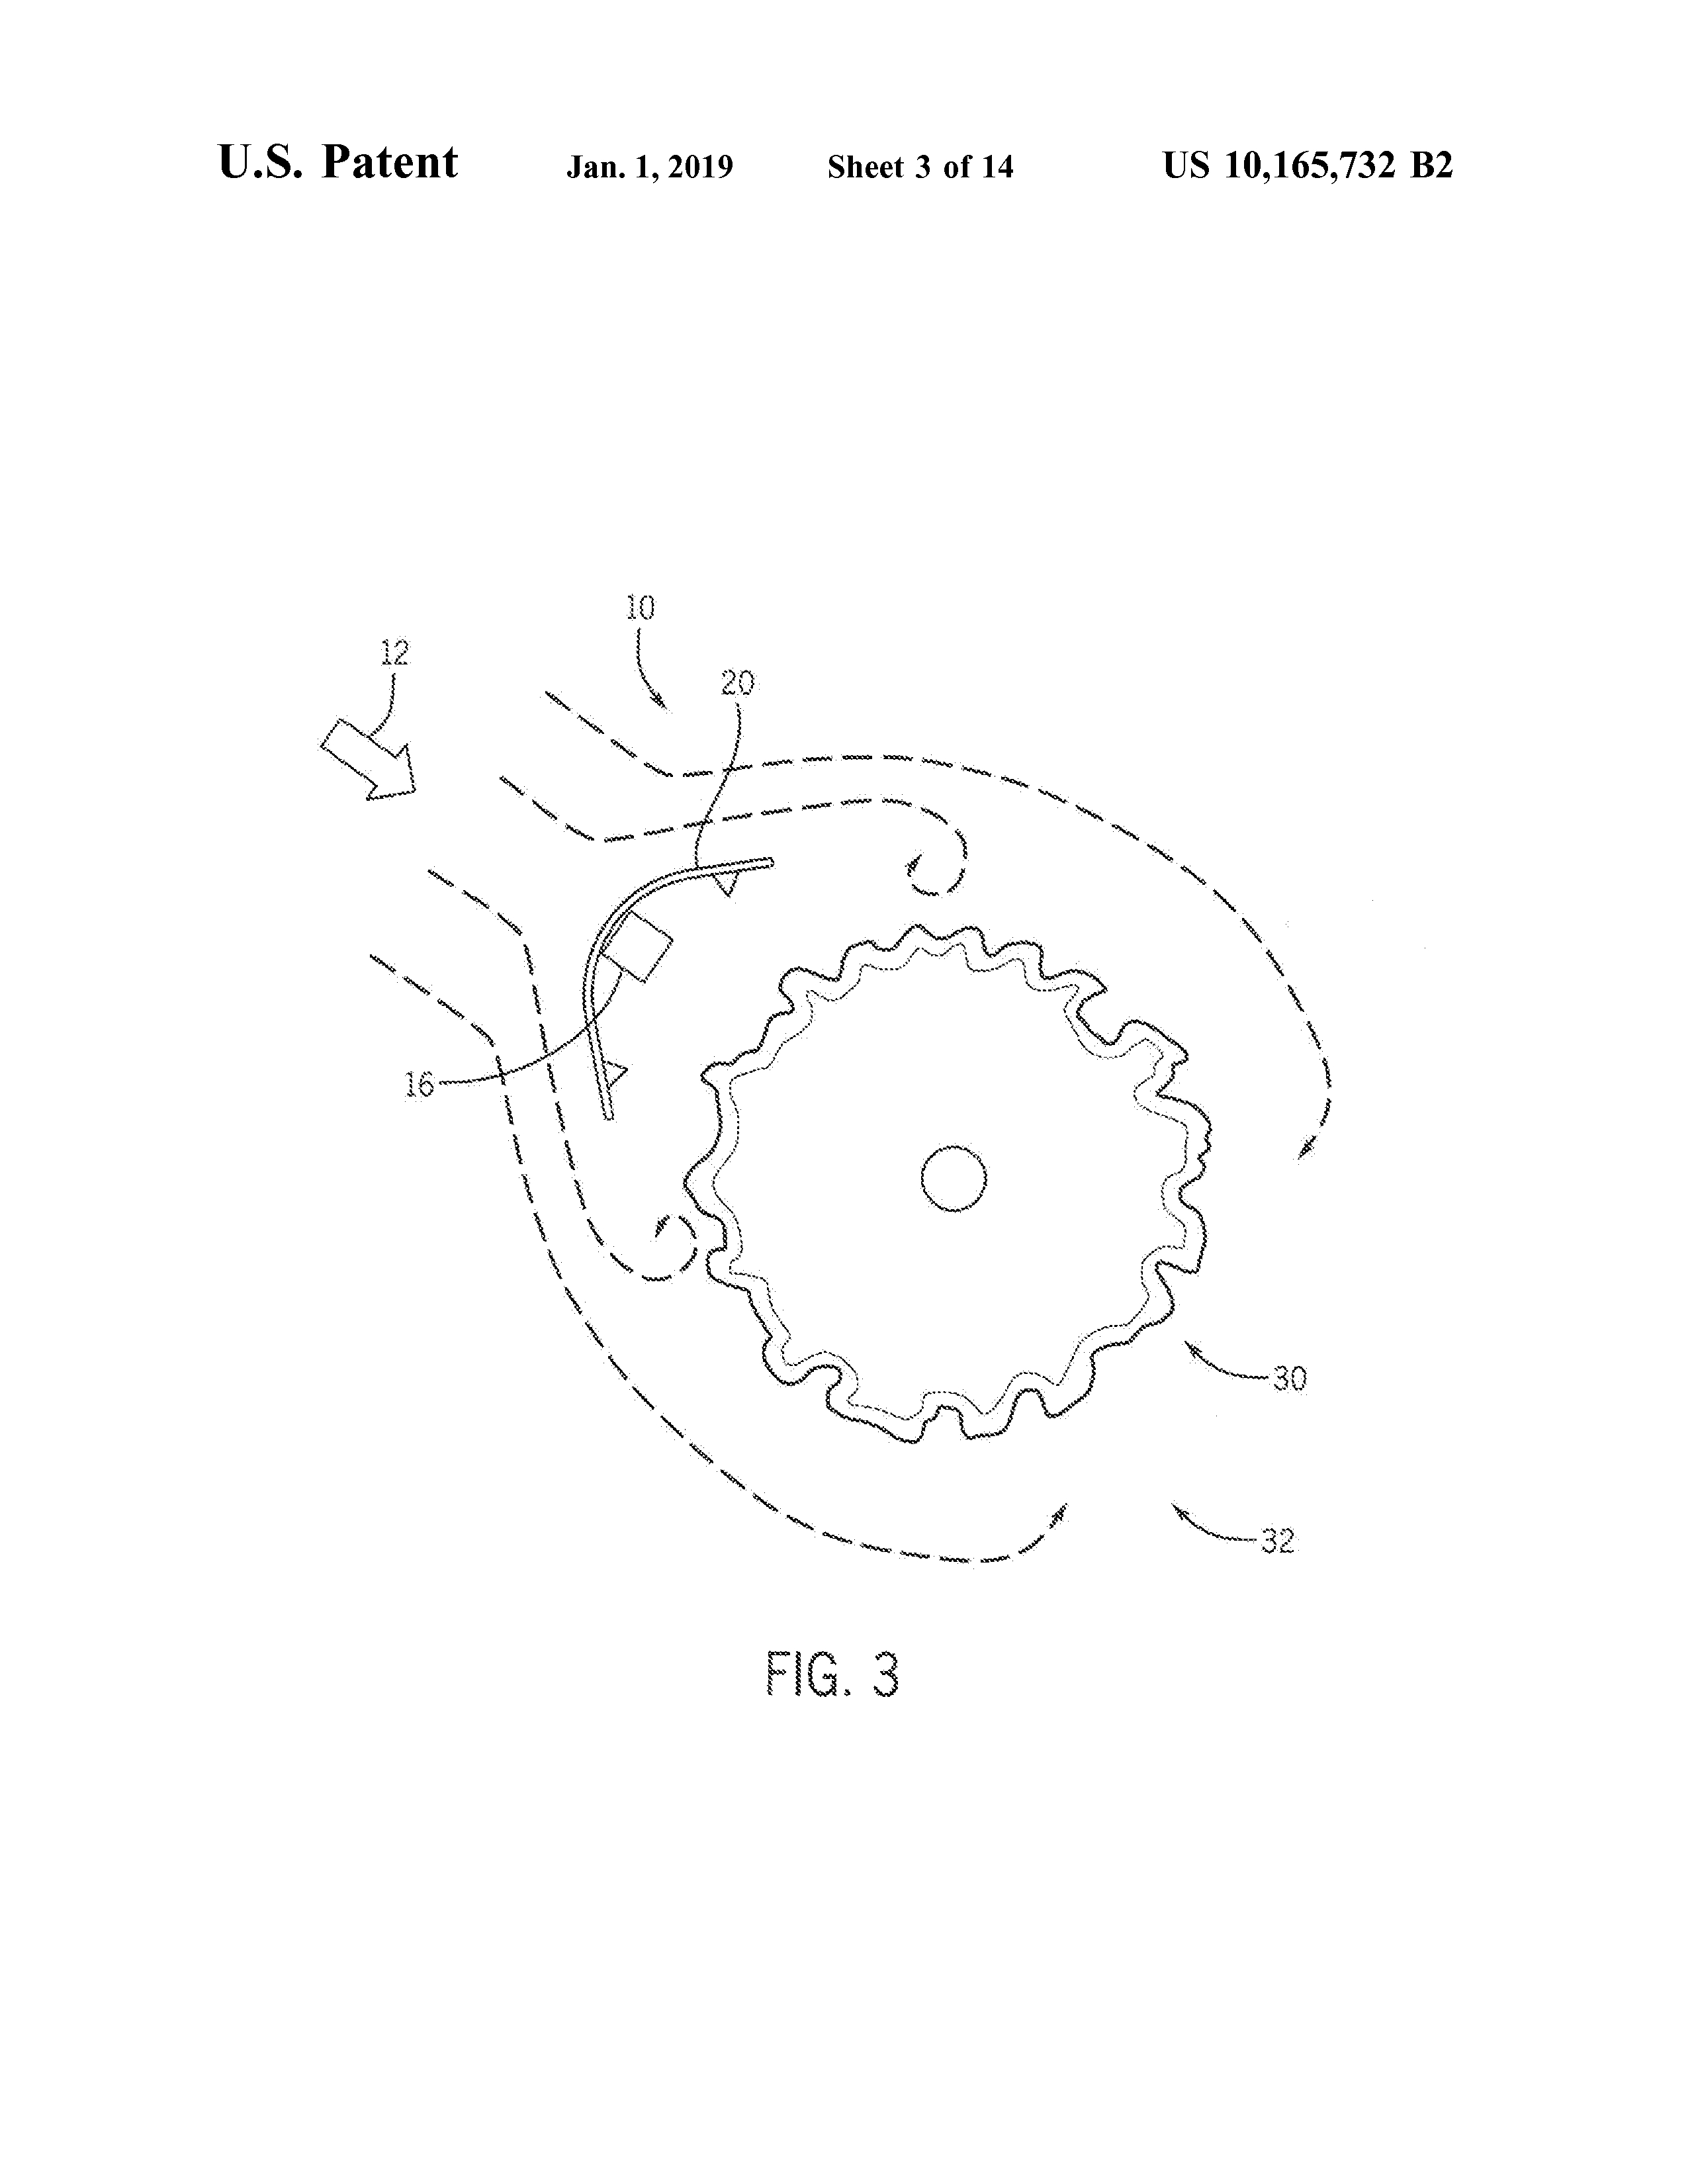patent image: (290, 529, 1487, 1819)
